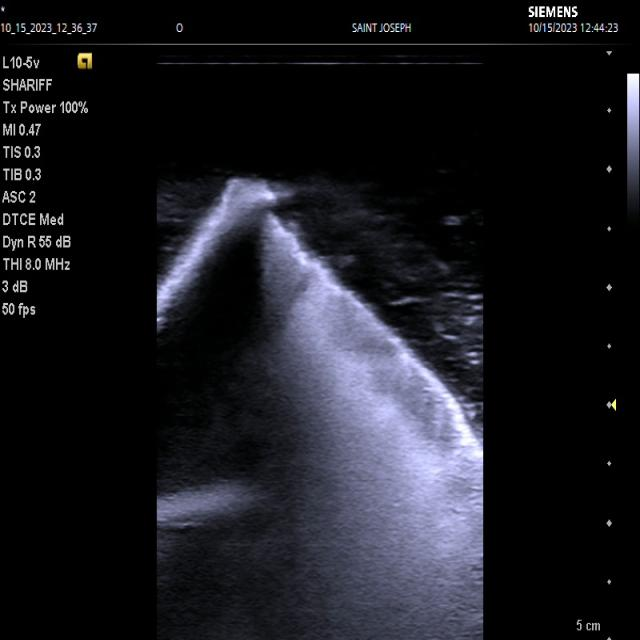tissue: (155, 182, 484, 640)
